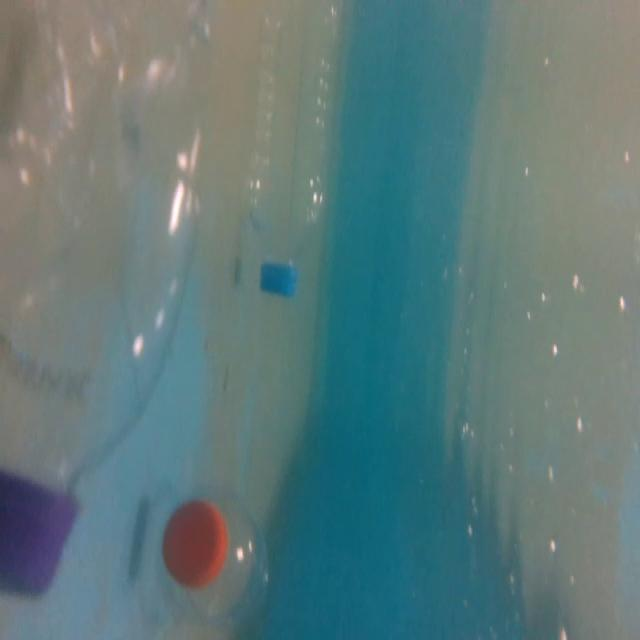plastic bottle: (0, 3, 174, 593), (242, 0, 357, 299), (141, 487, 286, 629)
